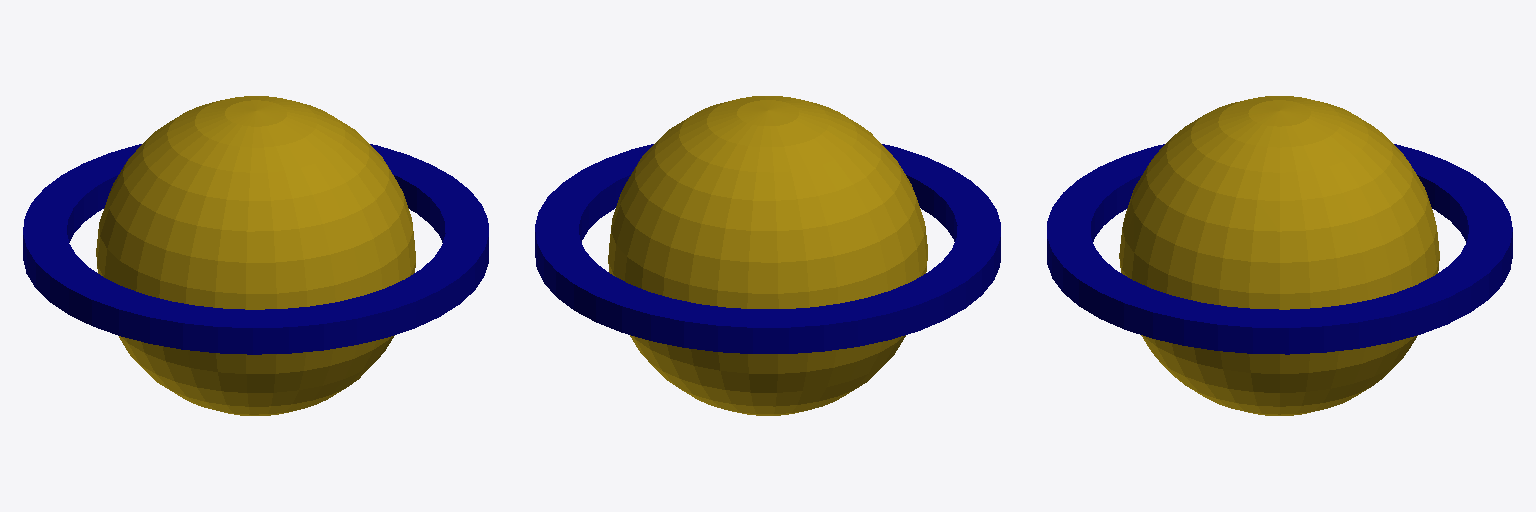
File: button.obj
The picture shows the model from 3 angles: view 1: azimuth 30°, elevation 25°; view 2: azimuth 150°, elevation 25°; view 3: azimuth 270°, elevation 25°; orthographic projection.
Visible parts, largest first — view 1: Sphere001, Tube001; view 2: Sphere001, Tube001; view 3: Sphere001, Tube001.
Boxes of the visible parts, x1,y1,x2,y2 form: Sphere001: [96, 96, 415, 415]; Tube001: [23, 144, 488, 354]; Sphere001: [608, 96, 927, 415]; Tube001: [535, 144, 1000, 353]; Sphere001: [1119, 96, 1439, 415]; Tube001: [1047, 144, 1512, 354].
Size of the model in its own units: 15.99 by 11 by 15.98.